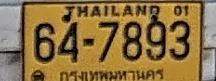3: (169, 20, 190, 60)
4: (59, 21, 78, 62)
6: (34, 22, 54, 62)
7: (98, 21, 118, 62)
8: (122, 20, 142, 60)
9: (146, 22, 166, 60)
BKK: (56, 65, 169, 81)
